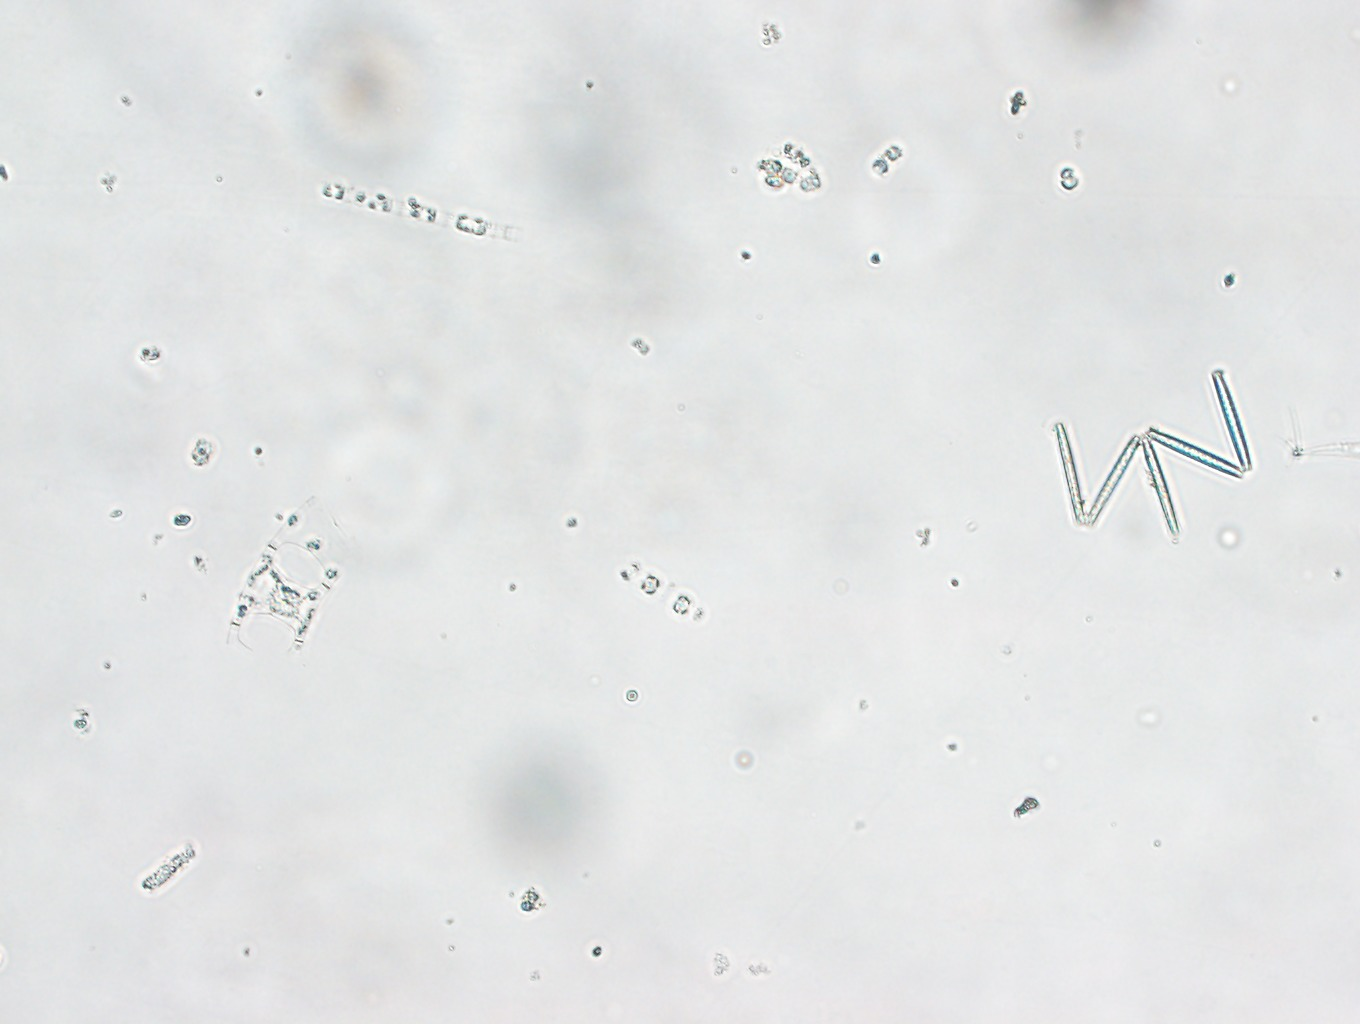thalassionema nitzschioides: (1048, 362, 1260, 535)
